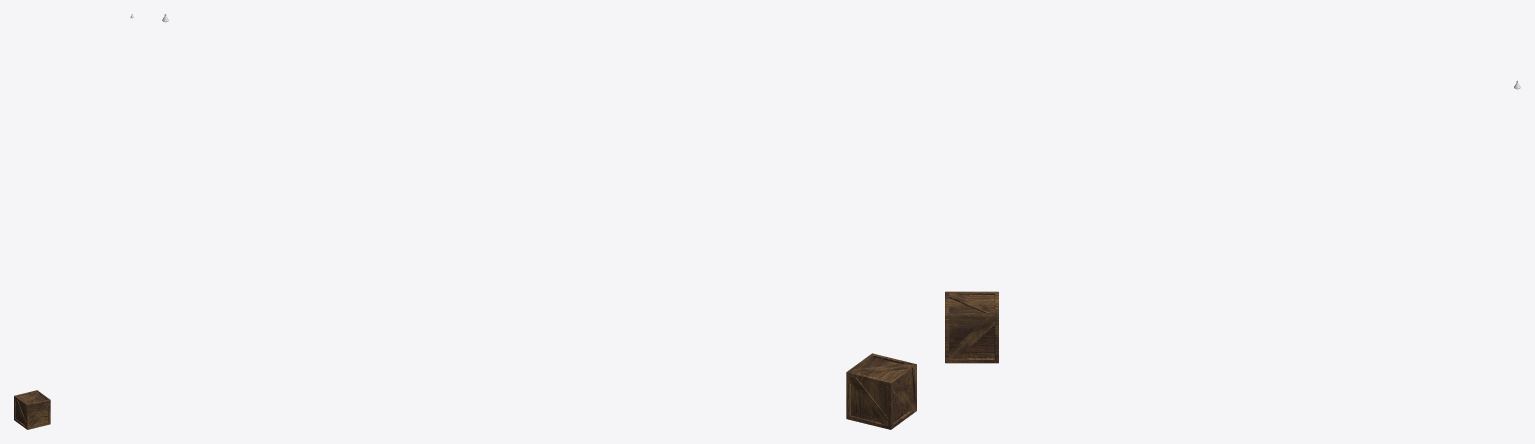
Rendered from Crate.fbx.
3 views of the same model, side by side, from view 1: azimuth 30°, elevation 25°; view 2: azimuth 150°, elevation 25°; view 3: azimuth 270°, elevation 25° (orthographic). The views are drawn at different scales.
Parts seen in each view (by area): view 1: box, cross section 1; view 2: box; view 3: box, cross section 3.
Part boxes in pixels (box(x1,y1,x2,y2)): box: box(14, 390, 50, 429); cross section 1: box(29, 402, 48, 427); box: box(846, 353, 916, 429); box: box(945, 291, 998, 363); cross section 3: box(949, 318, 994, 359).
Bounding box in the file's own units: 950 × 913 × 950.
Materials: 2 (1 with a texture image).
